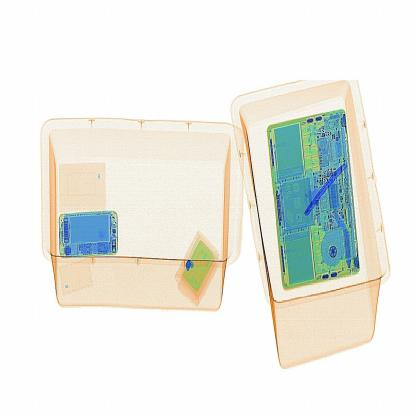pliers: (296, 161, 361, 221)
